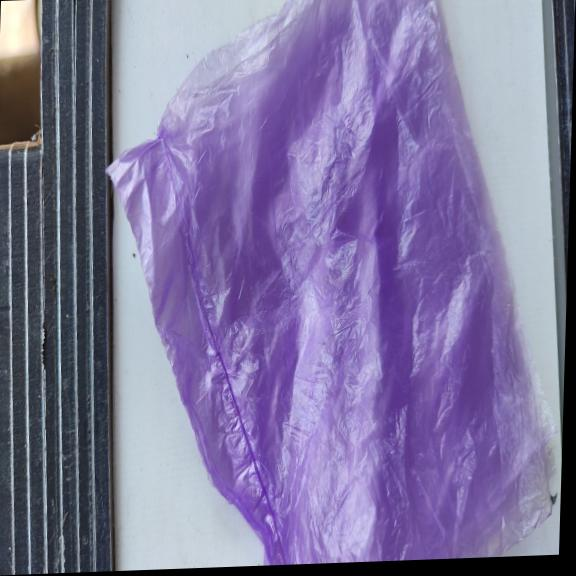Plastik: (93, 0, 570, 572)
